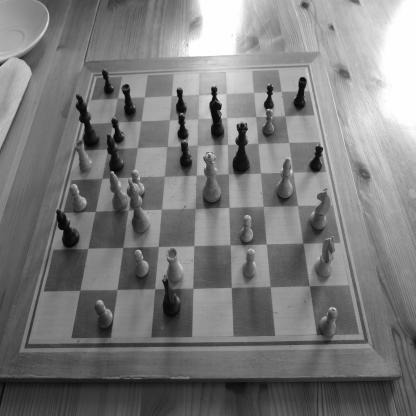black-bishop: (56, 208, 80, 249), (107, 132, 124, 173)
black-king: (75, 93, 100, 147)
black-knight: (162, 274, 181, 318), (210, 97, 224, 137)
black-pawn: (309, 144, 323, 172), (111, 117, 124, 143), (180, 140, 192, 168), (102, 68, 114, 94), (177, 113, 189, 139), (176, 86, 187, 112), (264, 83, 274, 109), (209, 84, 219, 108)
black-queen: (232, 122, 250, 172)
black-rook: (121, 83, 136, 116), (294, 76, 308, 109)
white-bishop: (276, 157, 293, 200), (110, 171, 128, 211)
white-king: (127, 178, 151, 234)
white-knight: (310, 187, 332, 231), (315, 235, 335, 278)
white-pawn: (94, 299, 114, 331), (319, 306, 338, 338), (70, 182, 88, 212), (133, 249, 149, 279), (242, 248, 257, 279), (240, 214, 254, 243), (131, 169, 145, 197), (262, 108, 275, 135)
white-queen: (202, 151, 221, 203)
white-rook: (166, 247, 184, 283), (74, 139, 93, 172)
